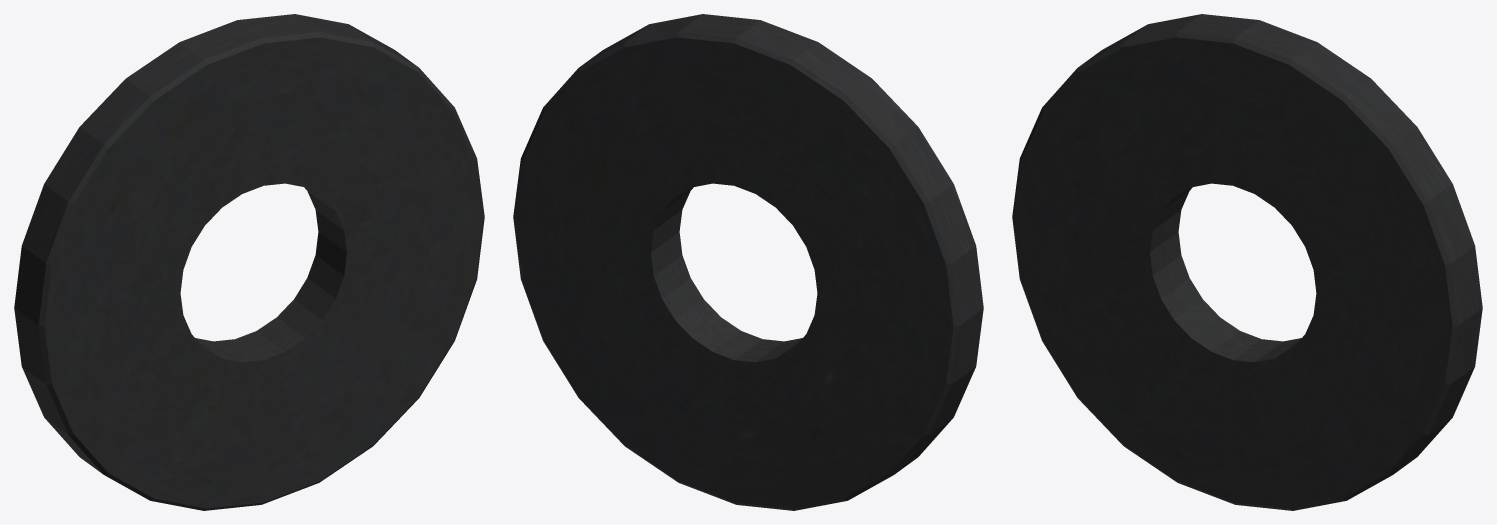
Rendered from Washer.dae.
3 renders of one model, left to right at view 1: azimuth 30°, elevation 25°; view 2: azimuth 150°, elevation 25°; view 3: azimuth 330°, elevation 25°, orthographic.
Visible parts, largest first — view 1: Washer; view 2: Washer; view 3: Washer.
Part boxes in pixels (x1,y1,x2,y2): Washer: (14, 14, 484, 510); Washer: (513, 14, 983, 510); Washer: (1012, 14, 1482, 510).
Bounding box in the file's own units: 0.0155 × 0.00172 × 0.0155.
1 material, 1 textured.
